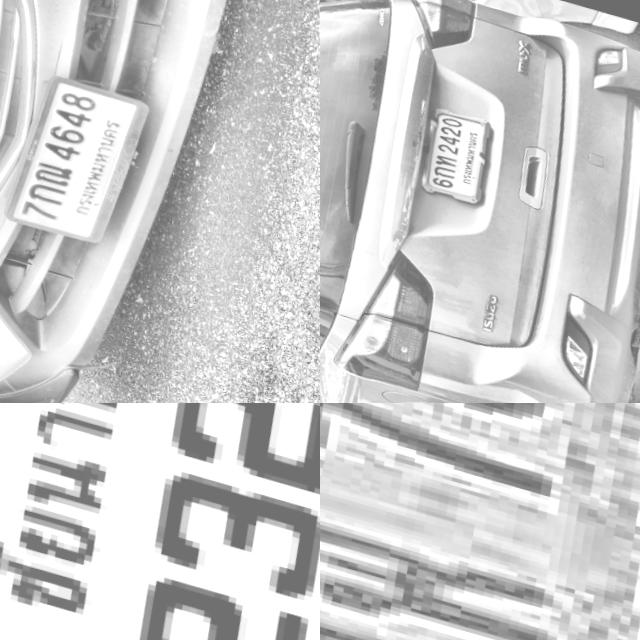license-plate: (0, 403, 320, 640), (320, 403, 640, 640), (0, 59, 165, 254), (404, 96, 499, 206)
